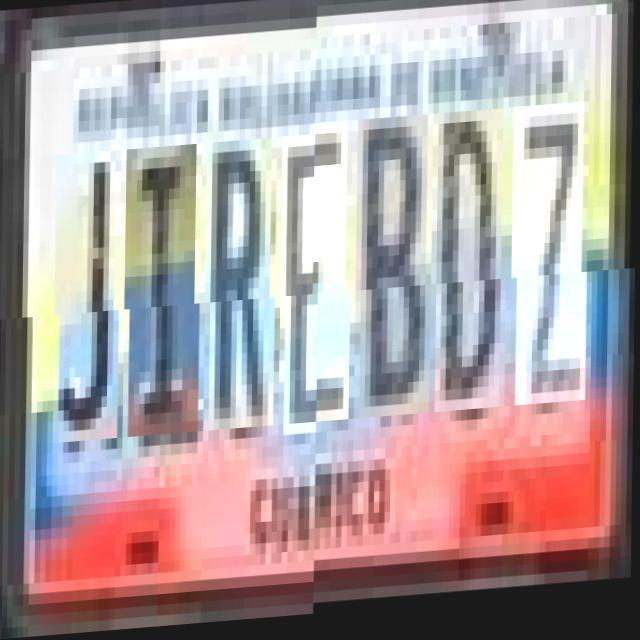B: (361, 132, 434, 436)
D: (436, 127, 509, 430)
E: (285, 137, 353, 440)
I: (130, 147, 202, 439)
J: (60, 152, 122, 444)
R: (210, 142, 278, 434)
Z: (516, 122, 590, 426)
